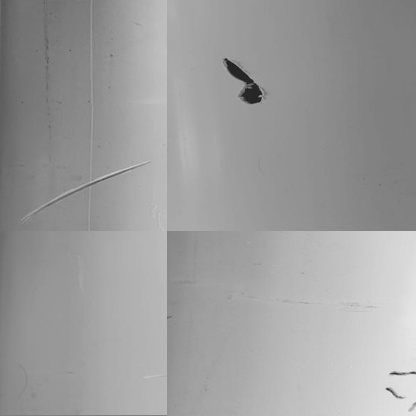fengxi: (385, 382, 408, 401), (390, 367, 413, 378)
kongdong: (220, 57, 266, 107)
sunshang: (22, 160, 150, 216)
